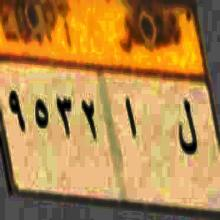2: (80, 91, 99, 149)
3: (55, 90, 75, 144)
5: (33, 89, 51, 138)
9: (7, 85, 28, 140)
alif: (120, 94, 138, 146)
laam: (174, 88, 200, 162)
